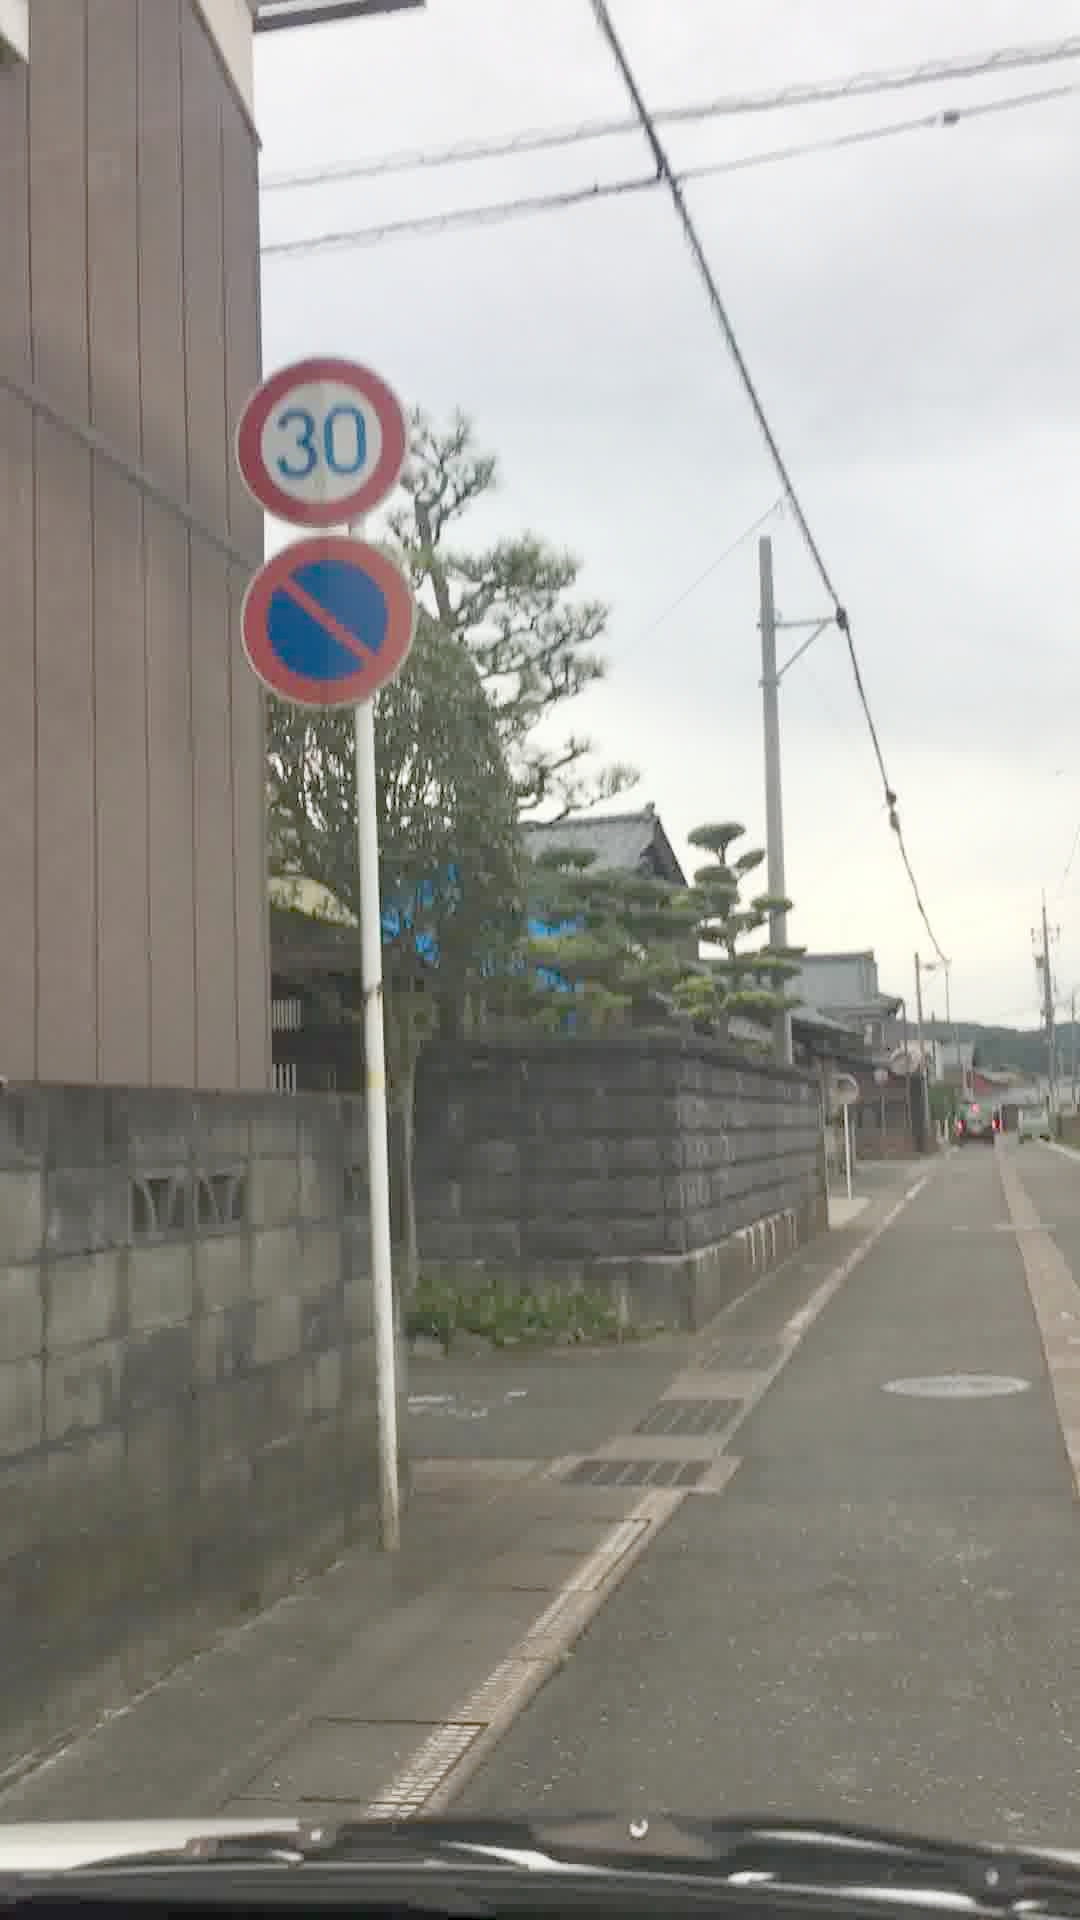Prohibition_sign: (236, 541, 440, 723)
Speed_sign: (233, 340, 422, 530)
